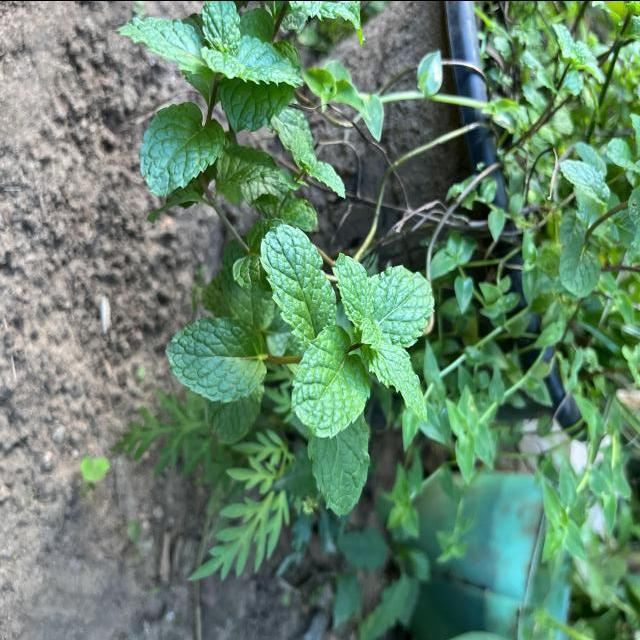Mentha spicata: (288, 322, 372, 438), (258, 222, 338, 342), (164, 316, 268, 402), (376, 263, 436, 352)
